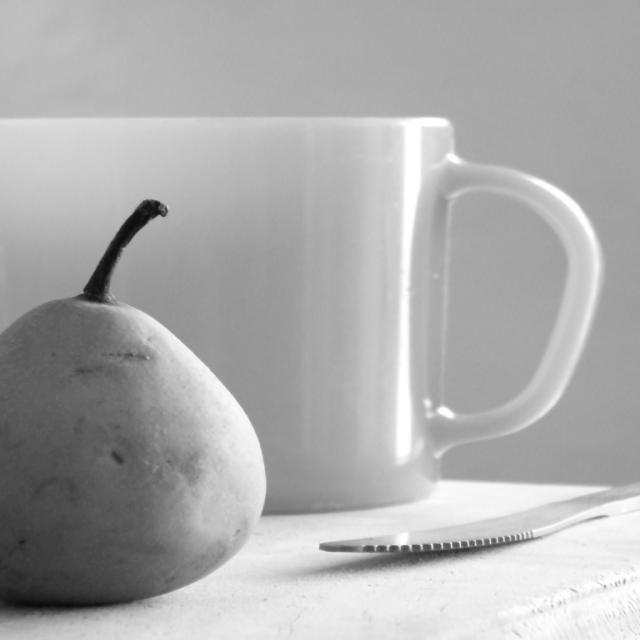pear: (0, 297, 265, 607)
